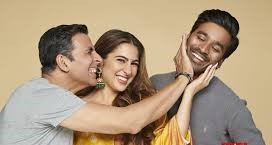Bad: (102, 9, 262, 145), (1, 24, 150, 144)
